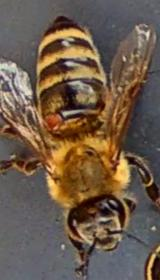varroa_mite: (38, 104, 62, 129)
